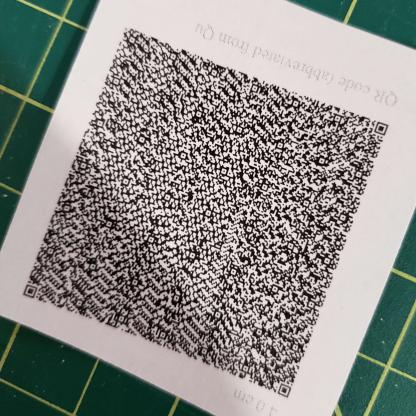qr: (17, 23, 393, 400)
